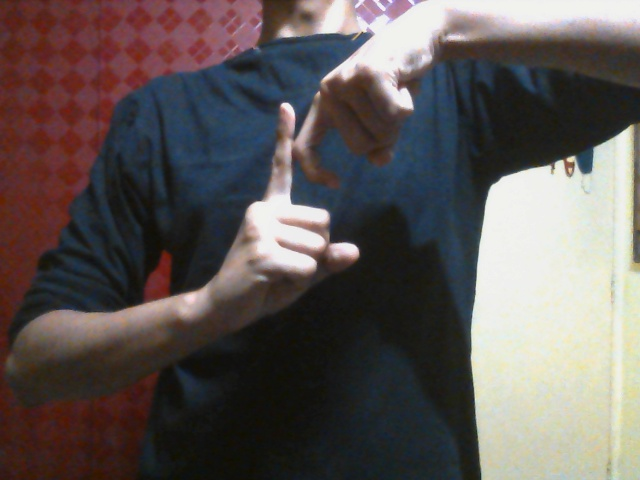K: (212, 67, 410, 321)
